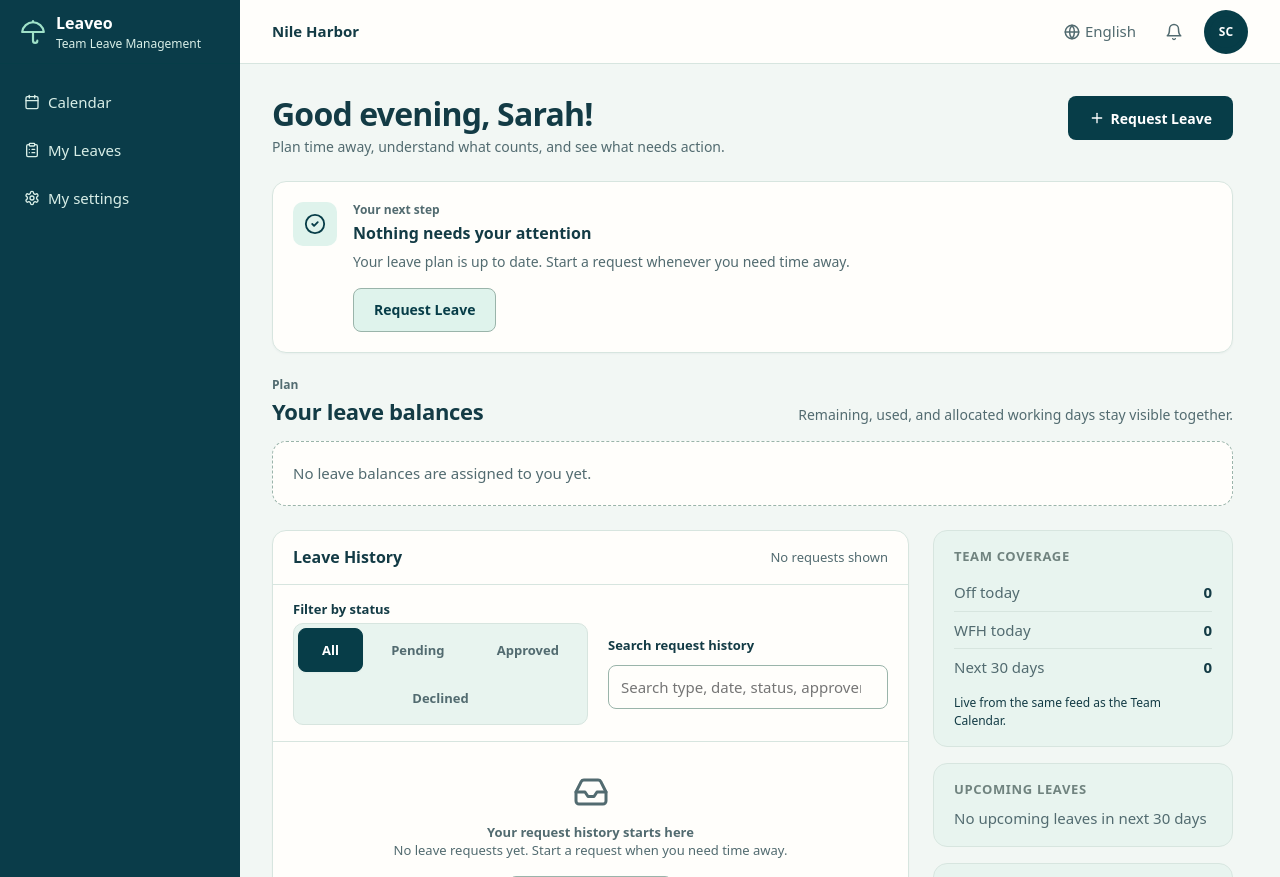
Test: OrgShell › [P1] opening the user menu closes an already-open notification panel
What coordinates should you click on to do the following:
click the button with test id "notification-bell"
I would click on:
 (1174, 32)
Its box is [1152,10,1196,54].
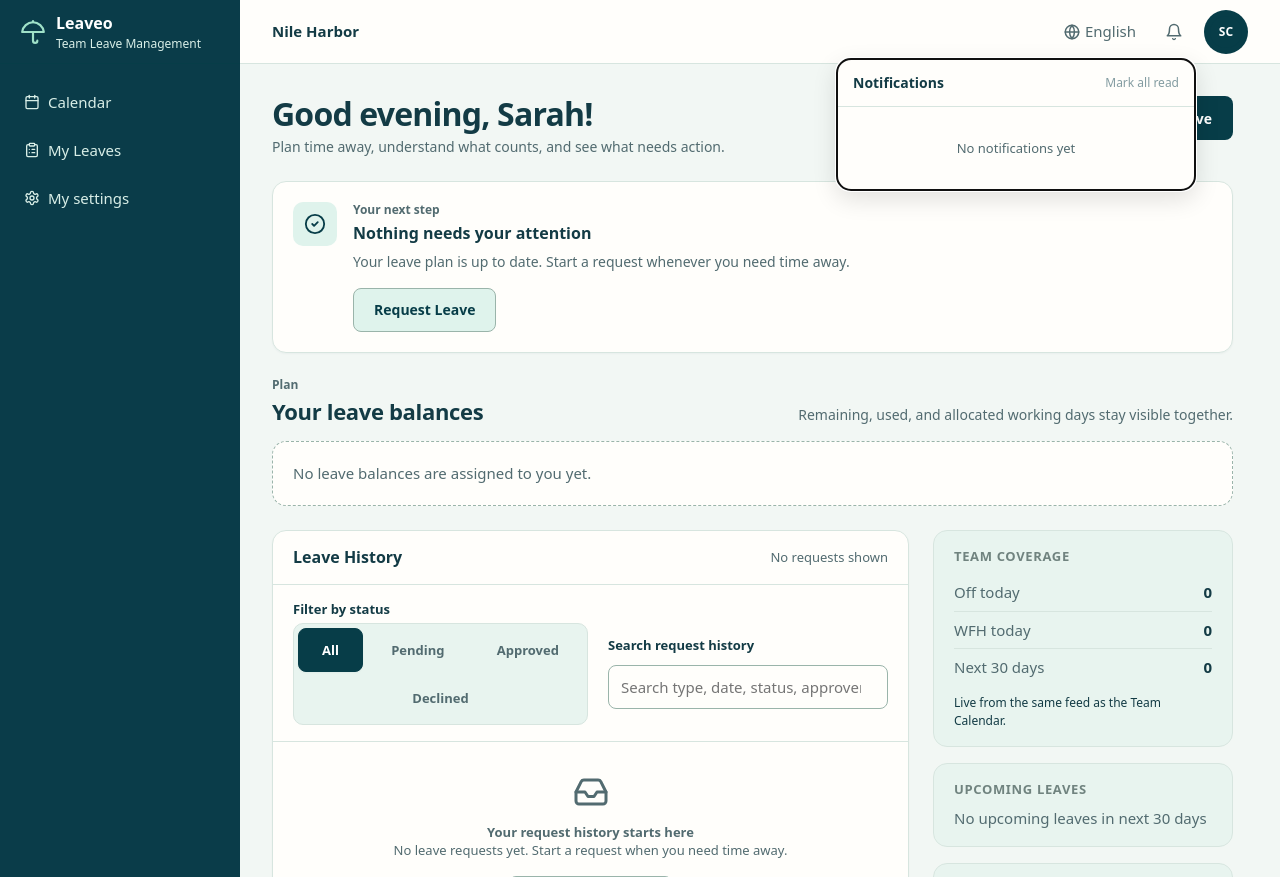
What coordinates should you click on to do the following:
click the button with test id "user-menu-trigger"
I would click on:
 (1226, 32)
Its box is [1204,10,1248,54].
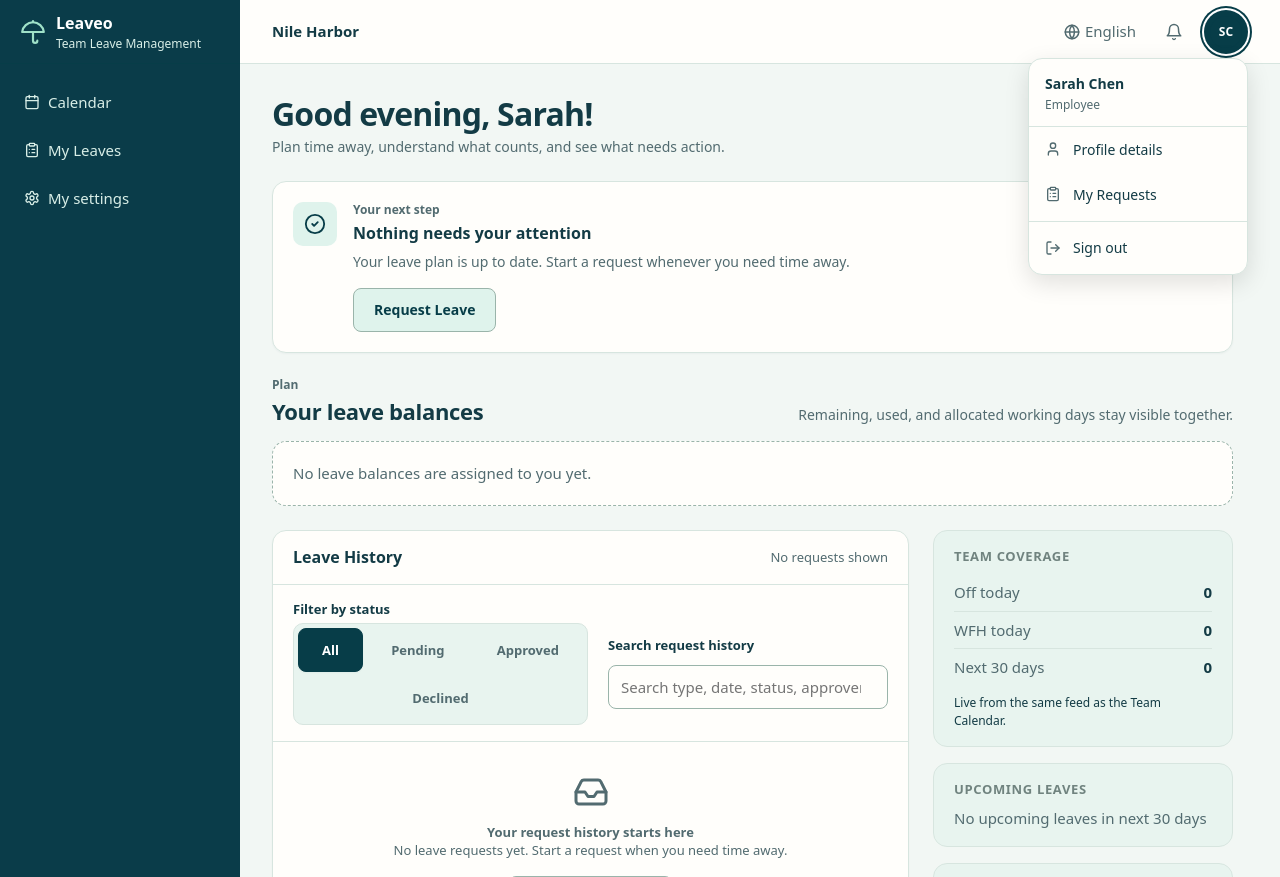
expect the menu with test id "user-menu-panel" is shown: met, box [1028,58,1248,275]
